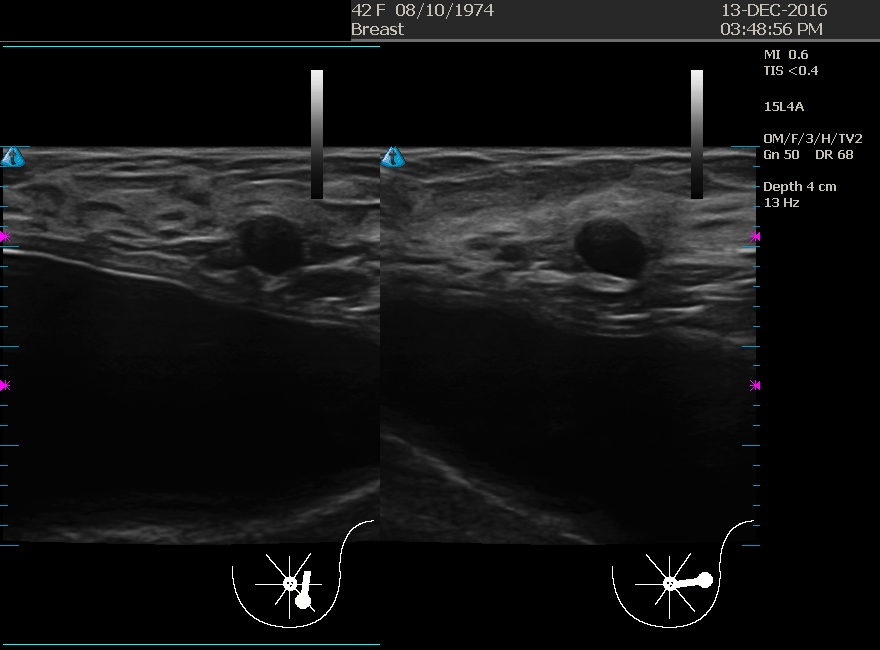BIRADS_2: (149, 203, 350, 403), (489, 178, 689, 378)
